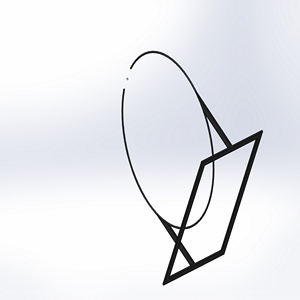circle: (120, 49, 265, 286)
